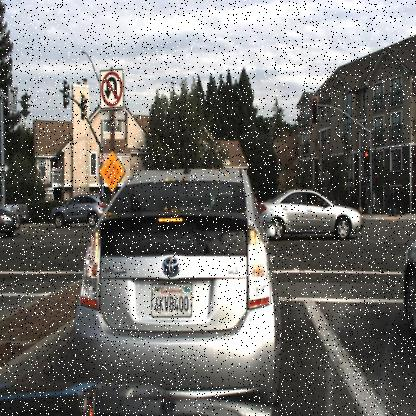car: (71, 164, 282, 387), (258, 187, 364, 238), (50, 193, 108, 225), (399, 229, 415, 336), (0, 196, 25, 243)
trafficLight-Red: (310, 91, 320, 124), (361, 145, 372, 173)
